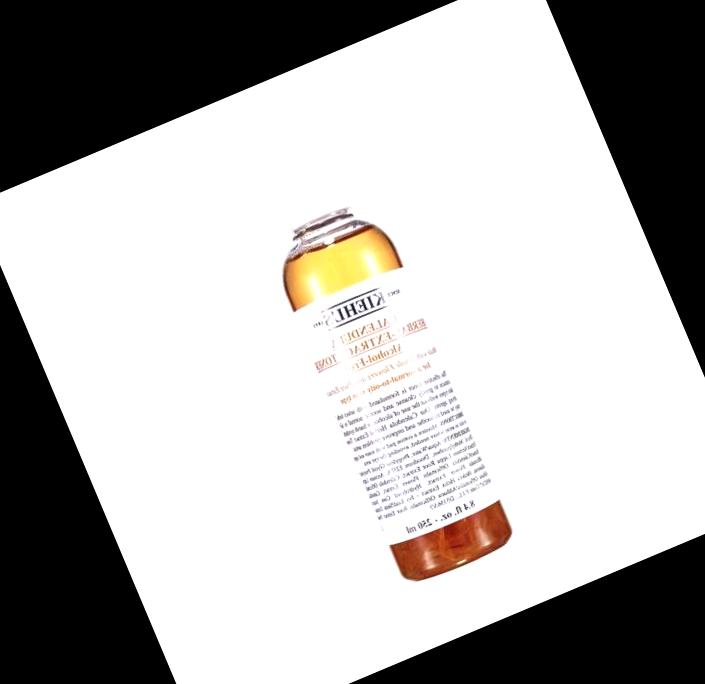cosmetic: (232, 124, 517, 590)
